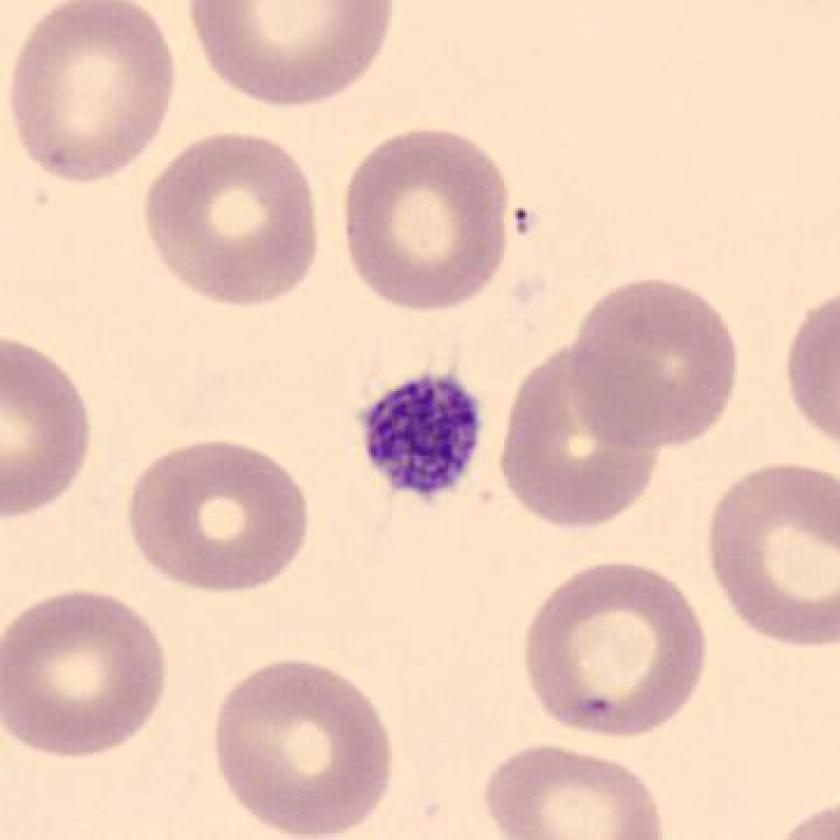platelets: (353, 362, 491, 512)
